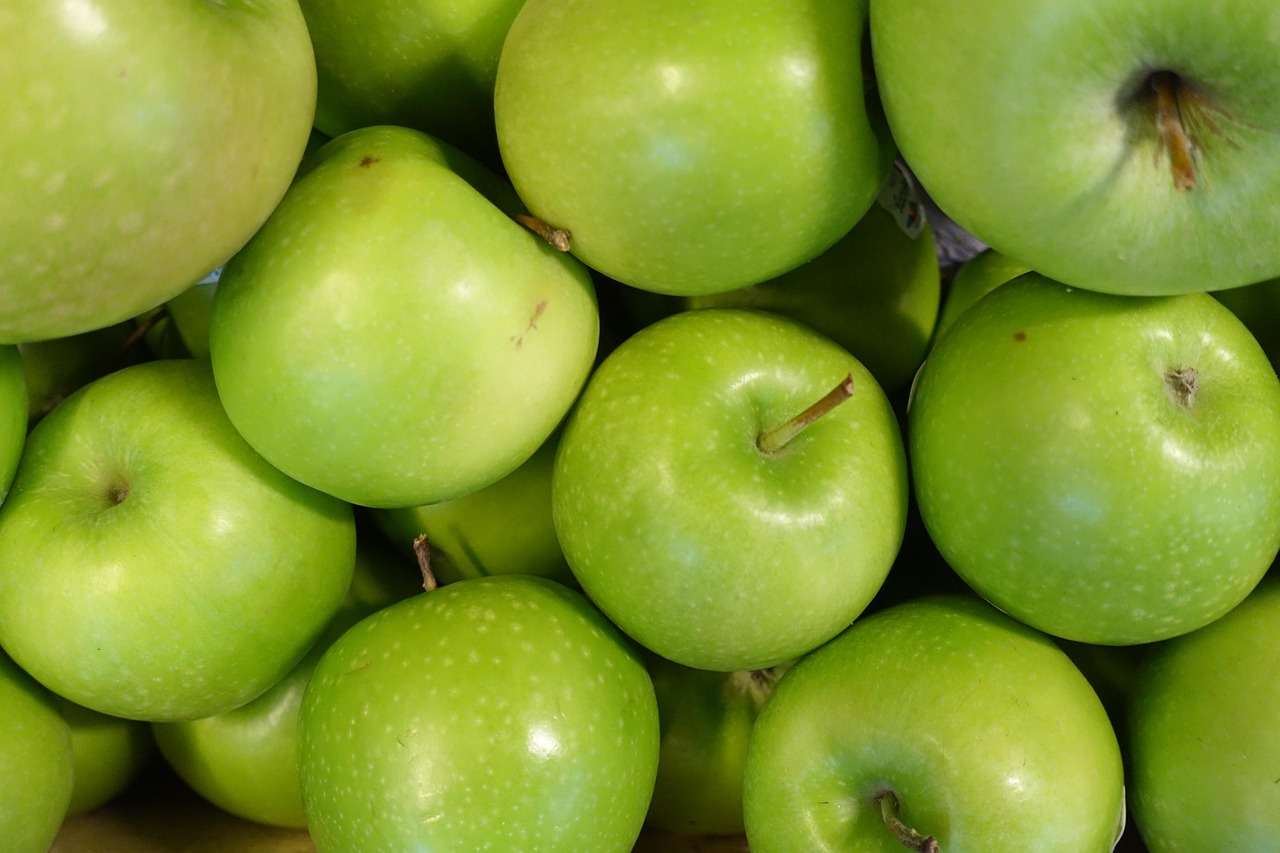apel: (191, 116, 628, 500), (550, 305, 931, 684), (908, 277, 1275, 665), (854, 4, 1280, 319), (1, 353, 356, 728), (486, 7, 910, 309), (1, 1, 322, 354), (321, 551, 665, 853), (710, 613, 1154, 846), (694, 205, 948, 403), (275, 1, 569, 163), (1114, 581, 1280, 853), (152, 684, 377, 827), (370, 491, 615, 590), (5, 619, 98, 853), (63, 706, 139, 837), (1, 318, 22, 520)
